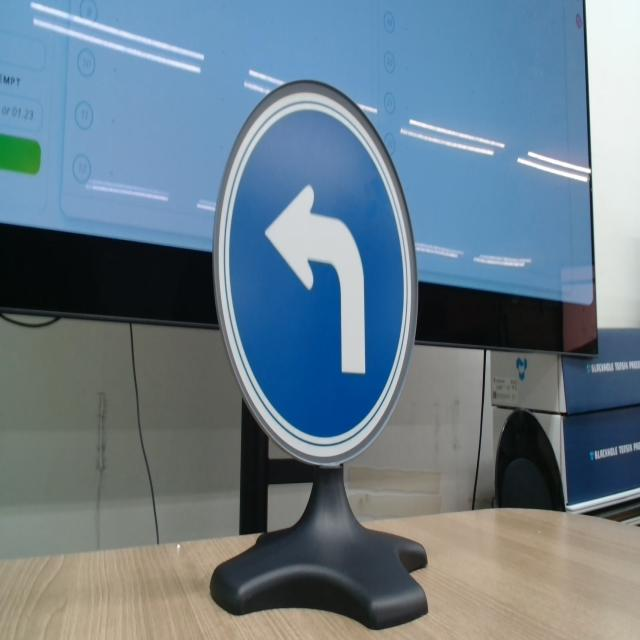left_direction: (208, 62, 436, 485)
